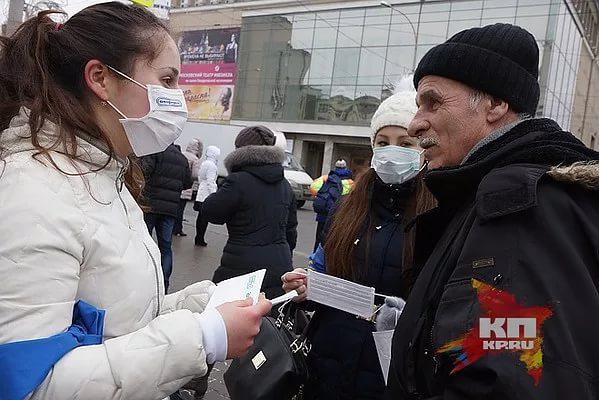mask: (111, 40, 188, 157), (368, 120, 424, 184)
none: (408, 75, 484, 165)
